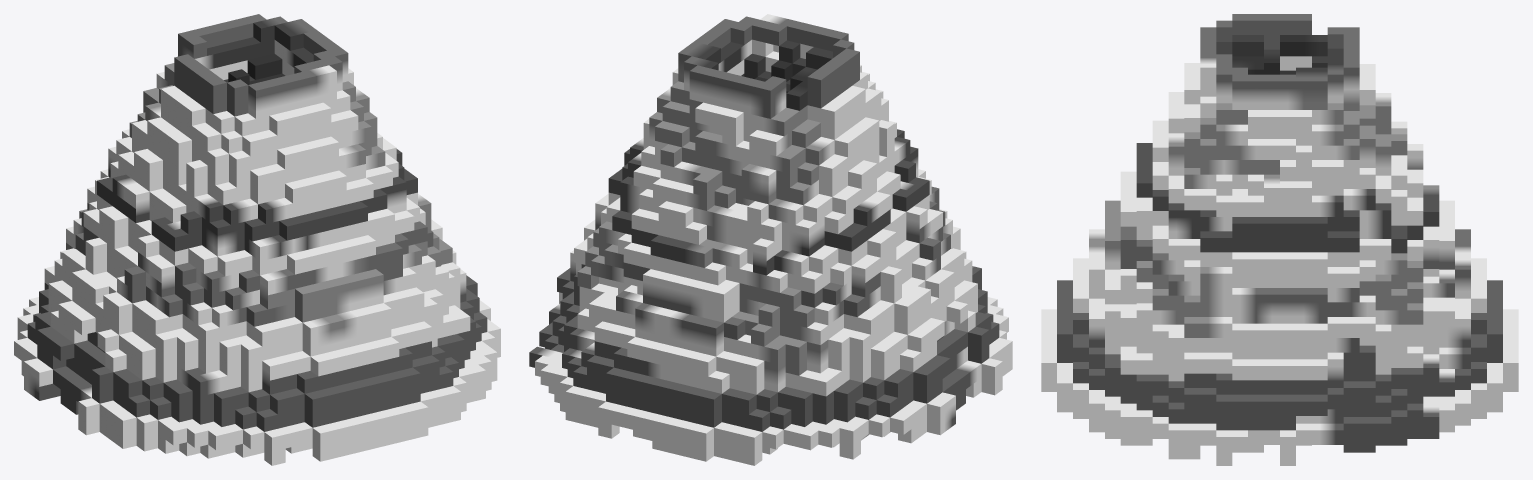
File: garbage_big_satellite1.fbx
The picture shows the model from 3 angles, left to right: view 1: azimuth 30°, elevation 25°; view 2: azimuth 150°, elevation 25°; view 3: azimuth 270°, elevation 25°; orthographic projection. The views are drawn at different scales.
Visible parts, largest first — view 1: garbage_big_satellite1; view 2: garbage_big_satellite1; view 3: garbage_big_satellite1.
Boxes of the visible parts, x1,y1,x2,y2 form: garbage_big_satellite1: [14, 14, 500, 465]; garbage_big_satellite1: [529, 14, 1012, 465]; garbage_big_satellite1: [1041, 14, 1518, 465].
Bounding box in the file's own units: 30 × 22 × 30.
